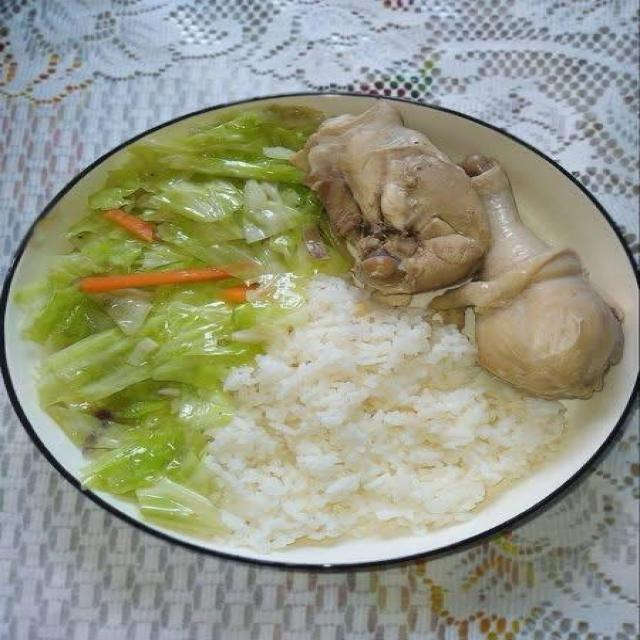Chicken: (292, 99, 629, 408)
Plate: (0, 93, 639, 564)
Rice: (183, 278, 566, 557)
Vegetables: (17, 104, 355, 540)
